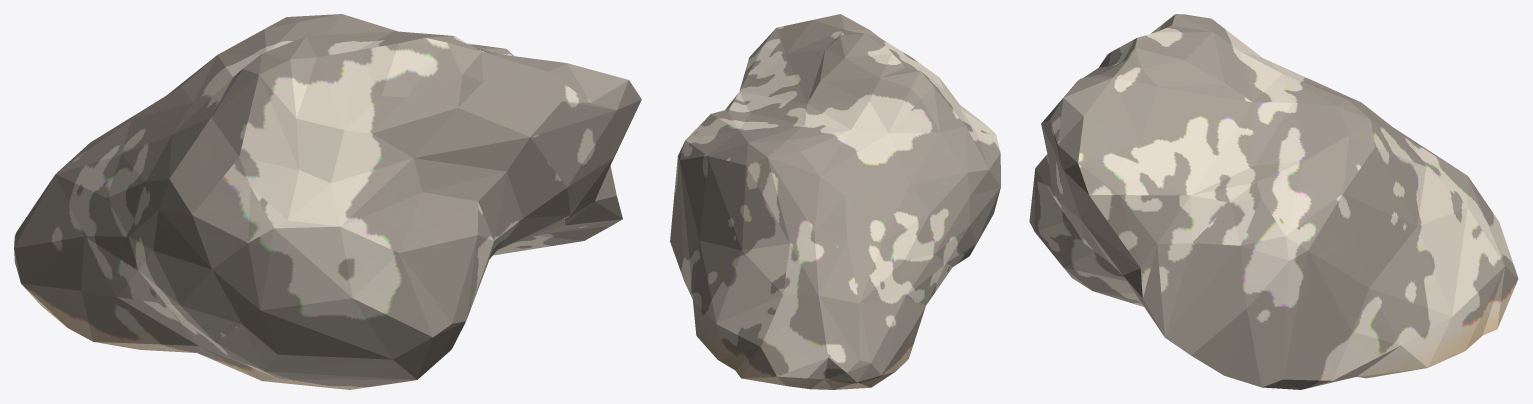
Rendered from RockGrayF.fbx.
3 views of the same model, side by side, from view 1: azimuth 30°, elevation 25°; view 2: azimuth 150°, elevation 25°; view 3: azimuth 270°, elevation 25° (orthographic). The views are drawn at different scales.
Parts seen in each view (by area): view 1: RockGrayF; view 2: RockGrayF; view 3: RockGrayF.
Part boxes in pixels (box(x1,y1,x2,y2)): RockGrayF: box(14, 14, 641, 389); RockGrayF: box(670, 14, 1000, 389); RockGrayF: box(1029, 14, 1518, 389).
Bounding box in the file's own units: 2.55 × 2.01 × 3.
Materials: 1 (1 with a texture image).
